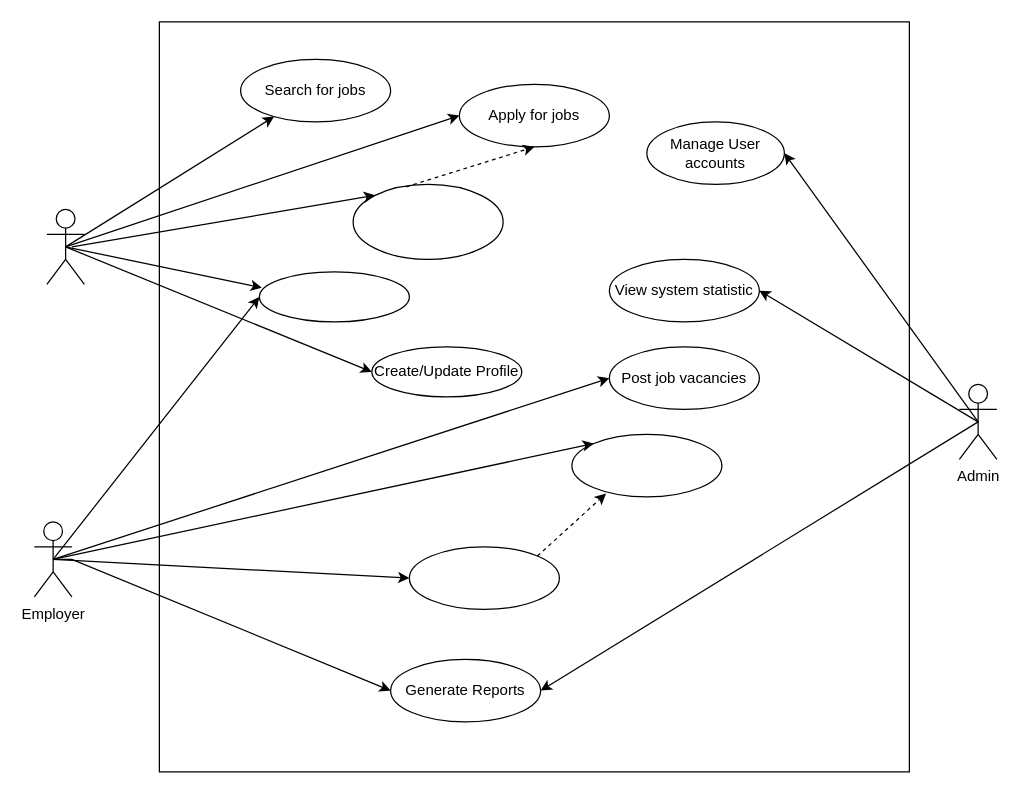
Some shapes in this 1021 by 794 pixel diagram are drawn without their labels. The shapes that lost their labels are listed below. From the top down, each one's centre as x and y in pixels, then its label:
At (x=427, y=221): "Track application status".
At (x=65, y=246): "Job Seeker".
At (x=333, y=296): "Register or Login".
At (x=646, y=465): "Review applications".
At (x=483, y=577): "Schedule Interviews".
